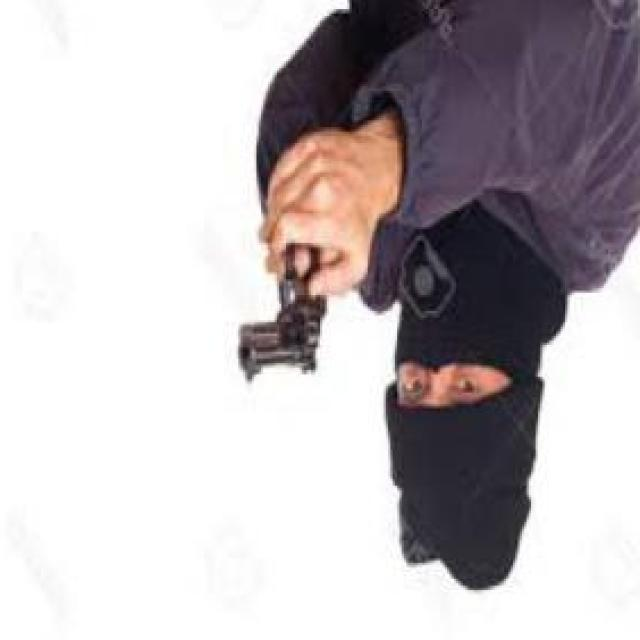pistol: (234, 228, 335, 388)
